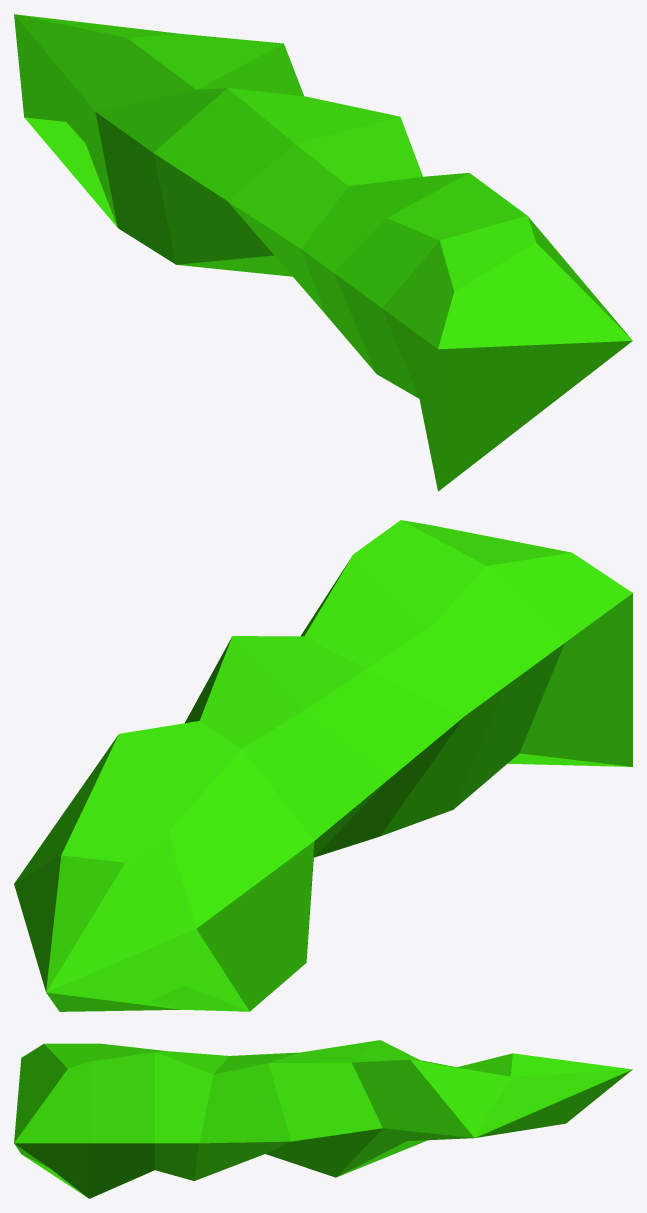
File: Grass3.fbx
3 renders of one model, top to bottom at view 1: azimuth 30°, elevation 25°; view 2: azimuth 150°, elevation 25°; view 3: azimuth 270°, elevation 25°, orthographic. The views are drawn at different scales.
Visible parts, largest first — view 1: Cube; view 2: Cube; view 3: Cube.
Boxes of the visible parts, box(x1,y1,x2,y2) form: Cube: box(14, 14, 632, 491); Cube: box(14, 520, 632, 1011); Cube: box(14, 1040, 632, 1198).
Size of the model in its own units: 156 by 151 by 582.
